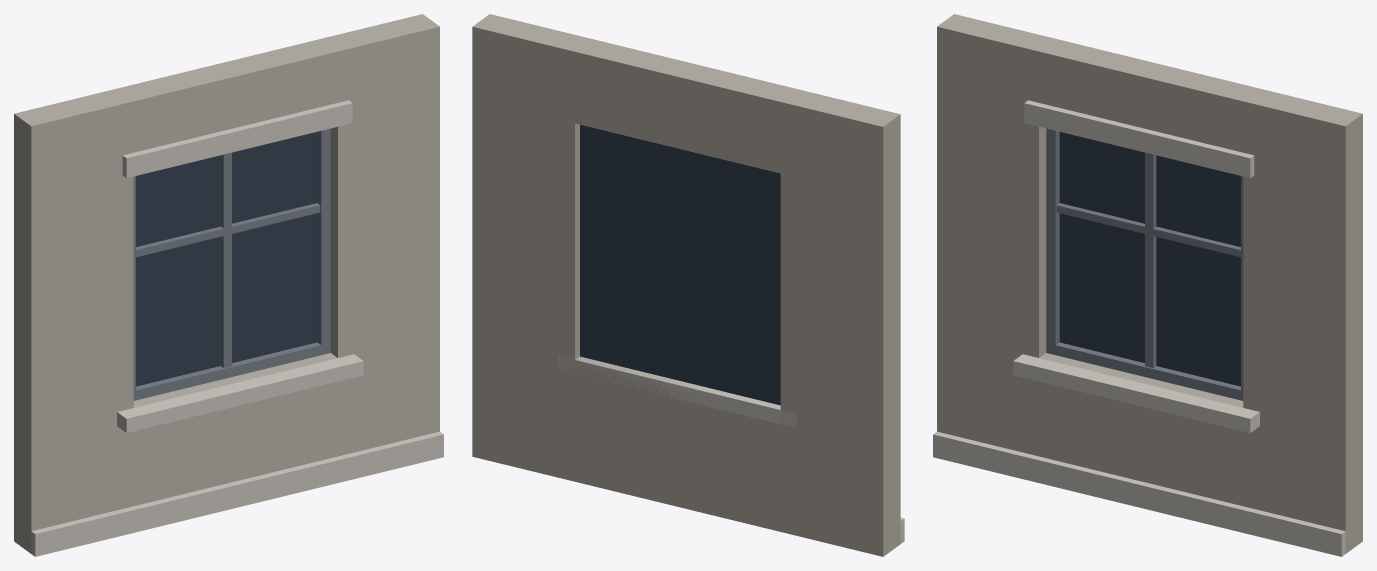
Rendered from wall_window_dark.glb.
3 views of the same model, side by side, from view 1: azimuth 30°, elevation 25°; view 2: azimuth 150°, elevation 25°; view 3: azimuth 330°, elevation 25° (orthographic).
Visible parts, largest first — view 1: wall_window_dark; view 2: wall_window_dark; view 3: wall_window_dark.
Boxes of the visible parts, box(x1,y1,x2,y2) form: wall_window_dark: box(14, 14, 443, 556); wall_window_dark: box(472, 14, 904, 556); wall_window_dark: box(933, 14, 1362, 556).
Bounding box in the file's own units: 3 × 3 × 0.34.
